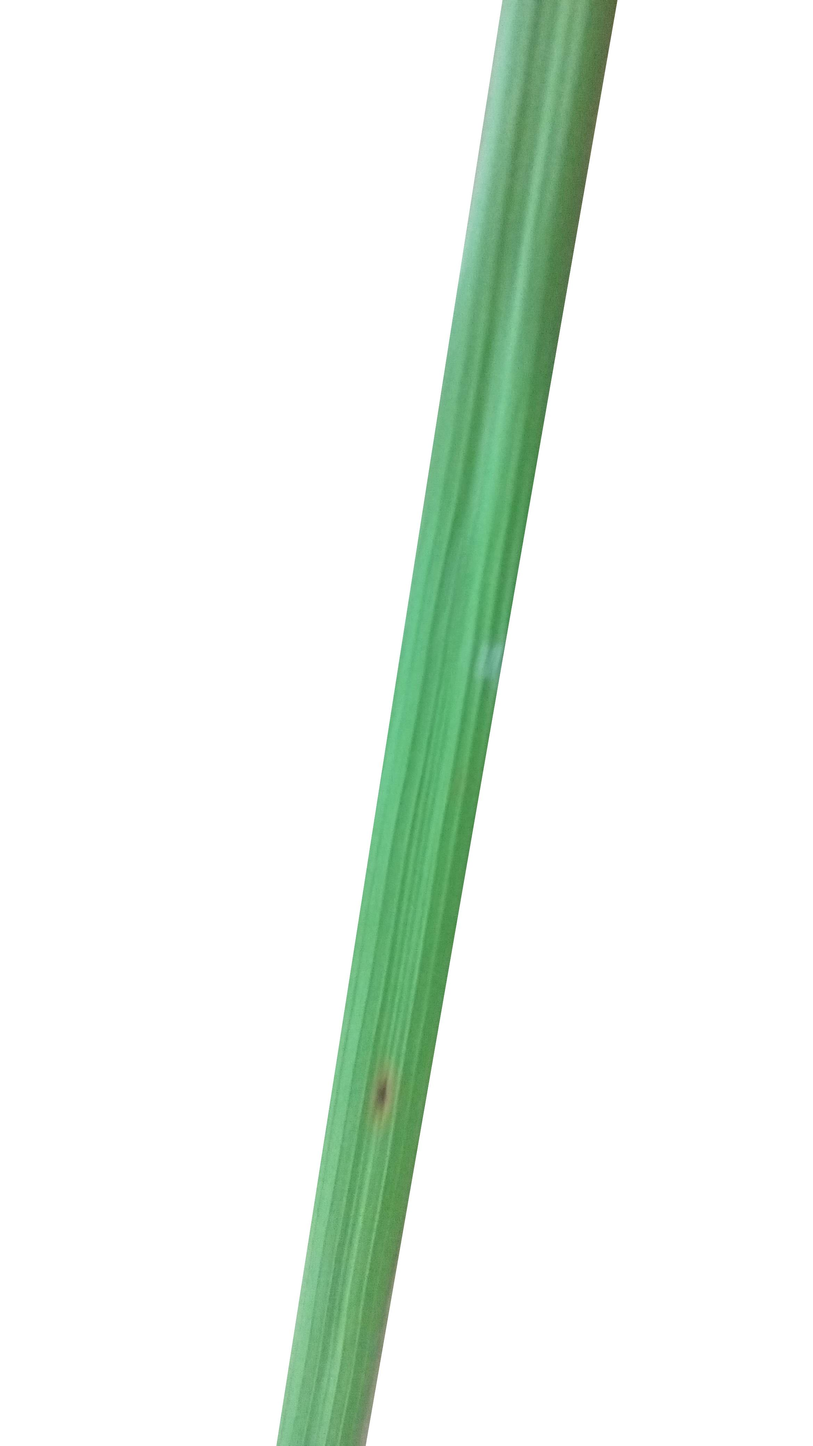Brown spot: (354, 1057, 417, 1130)
